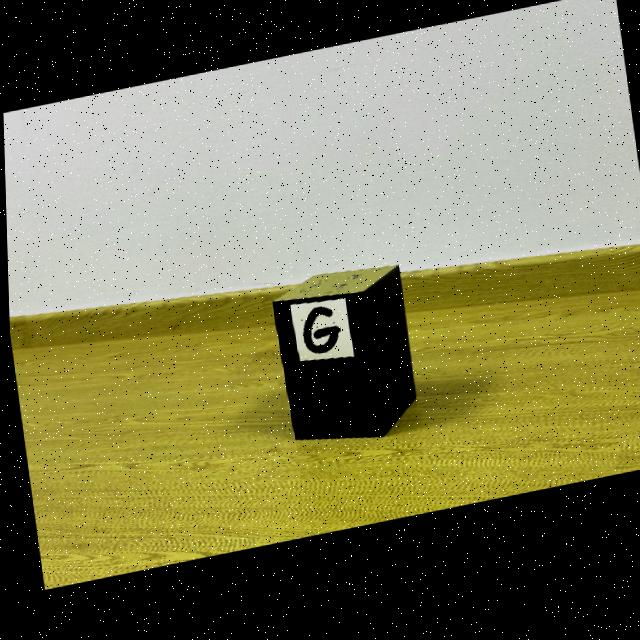G: (301, 312, 337, 359)
